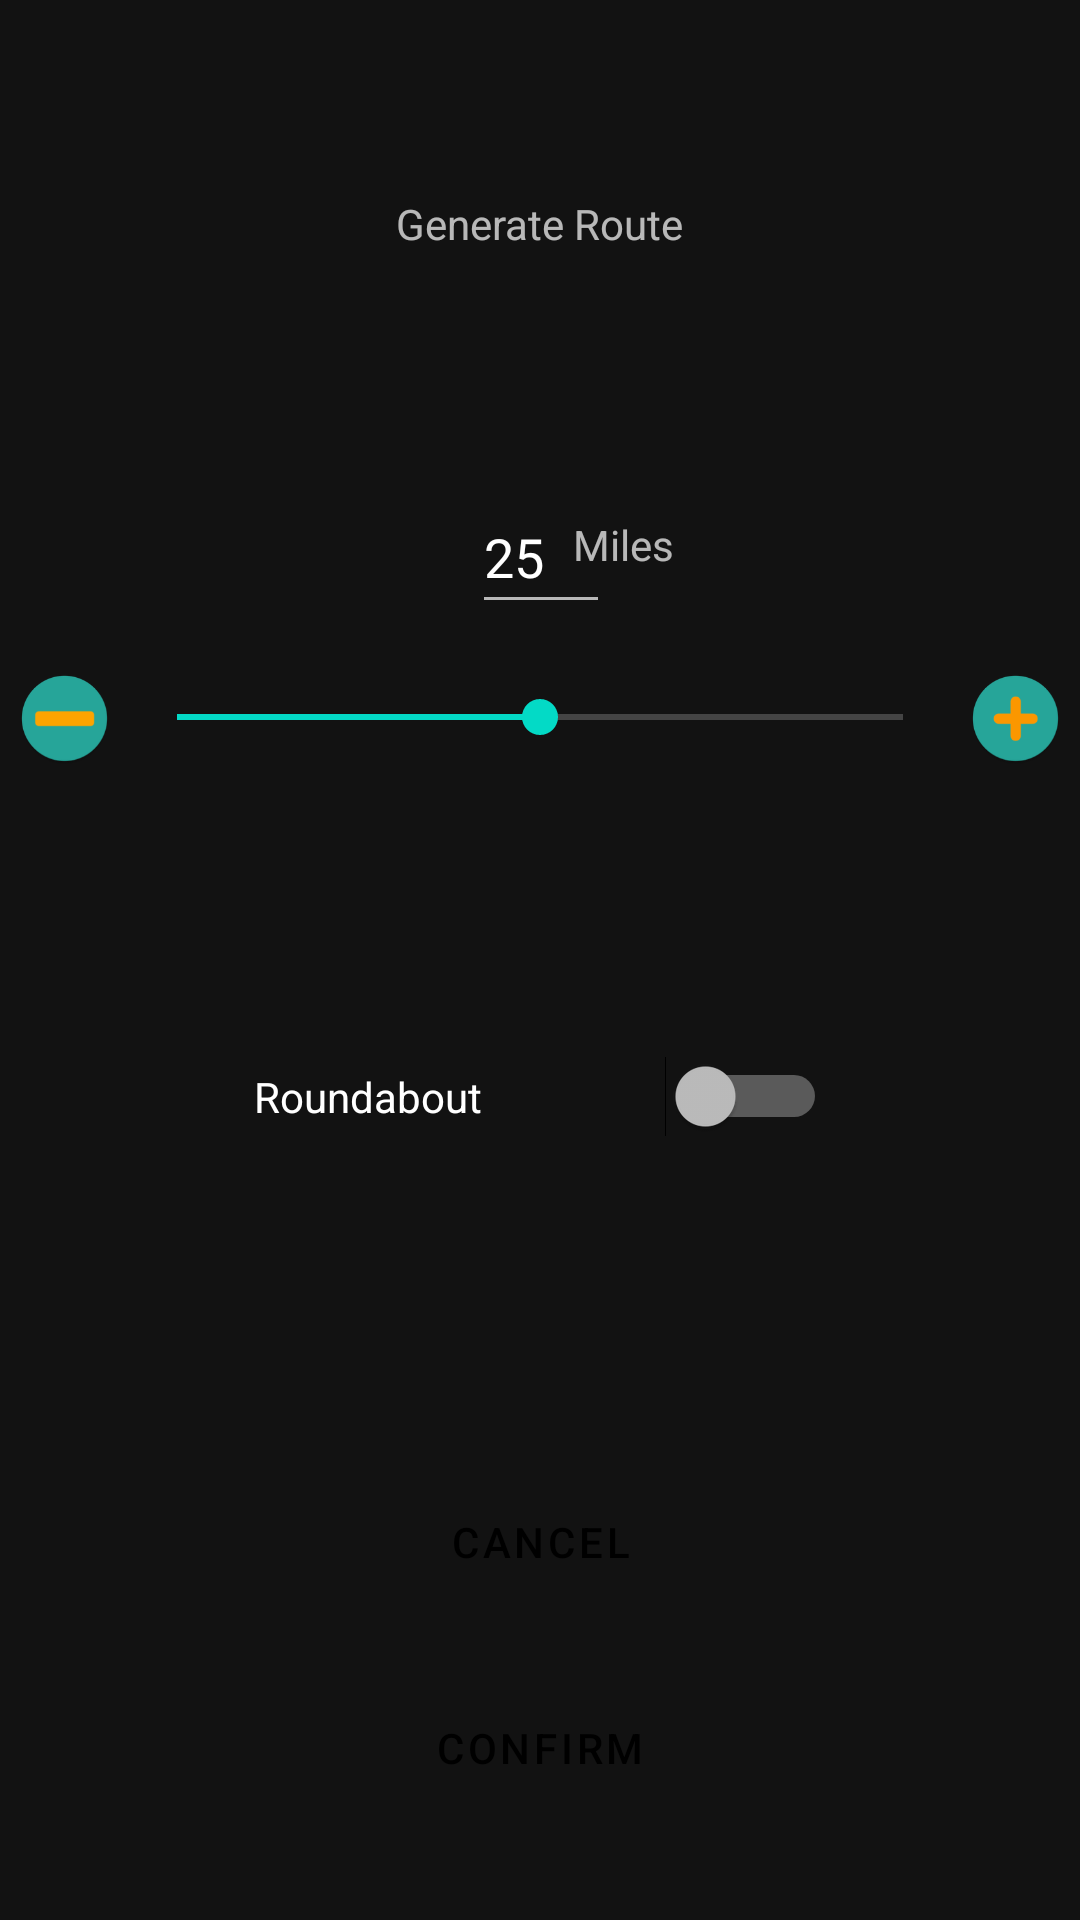

Point at icon controls on the screen. Image size 1080px×1920px, points as (x,y).
minus round: (64,718)
plus round: (1015,718)
